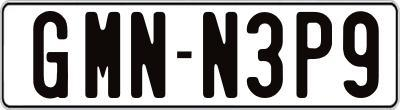3: (245, 11, 283, 103)
9: (342, 10, 381, 97)
G: (32, 10, 69, 98)
M: (83, 9, 119, 101)
N: (129, 12, 167, 98), (202, 12, 238, 102)
P: (294, 11, 332, 97)
